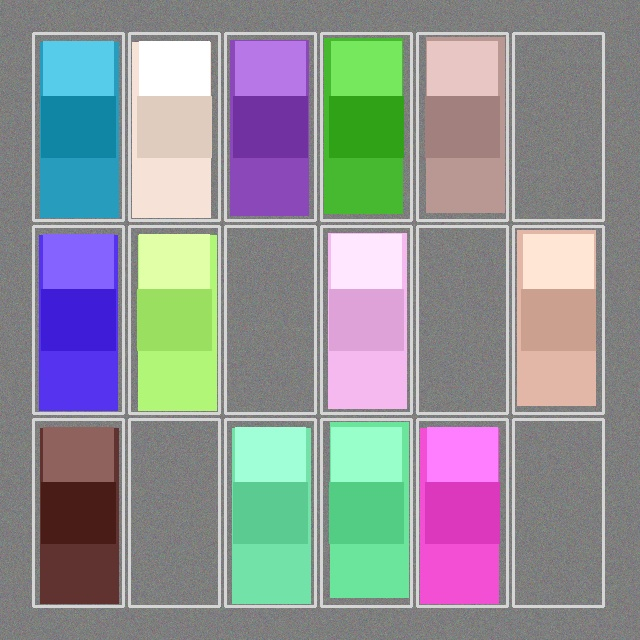space-empty: (515, 35, 601, 218), (227, 228, 313, 411), (419, 228, 505, 411), (131, 421, 217, 604), (515, 421, 601, 604)
space-occupied: (35, 35, 121, 218), (131, 35, 217, 218), (227, 35, 313, 218), (323, 35, 409, 218), (419, 35, 505, 218), (35, 228, 121, 411), (131, 228, 217, 411), (323, 228, 409, 411), (515, 228, 601, 411), (35, 421, 121, 604), (227, 421, 313, 604), (323, 421, 409, 604), (419, 421, 505, 604)
